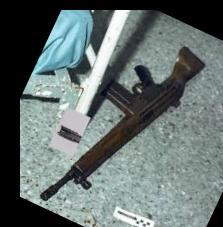larga: (40, 47, 207, 201)
